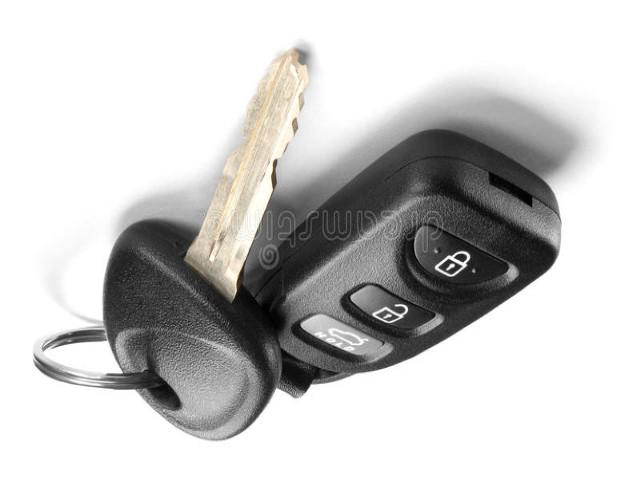key: (102, 53, 312, 312)
